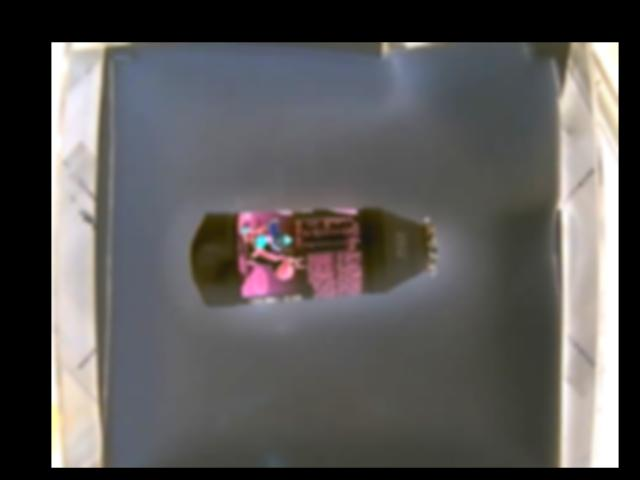Bottle: (194, 208, 437, 309)
